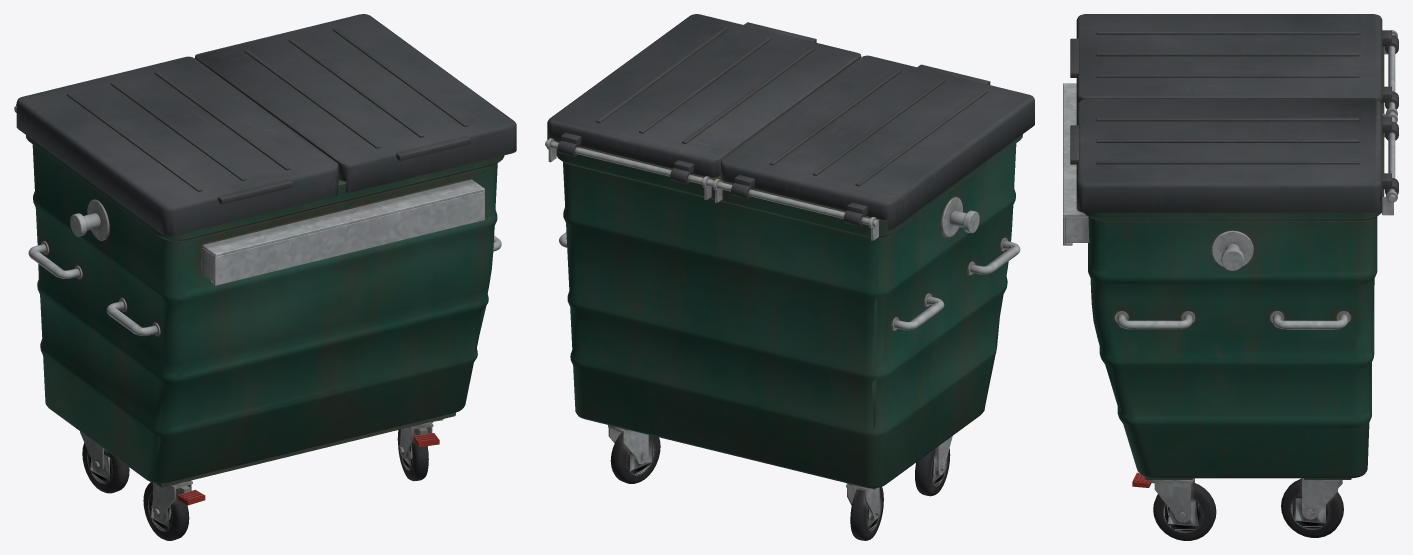
The model's file is g3d_dumpster.glb.
3 renders of one model, left to right at view 1: azimuth 30°, elevation 25°; view 2: azimuth 150°, elevation 25°; view 3: azimuth 270°, elevation 25°, orthographic. The views are drawn at different scales.
Parts seen in each view (by area): view 1: dumpster_body, dumpster_body_lo; view 2: dumpster_body, dumpster_body_lo; view 3: dumpster_body, dumpster_body_lo.
Boxes of the visible parts, left/top/right/bottom form: dumpster_body: left=14, top=14, right=516, bottom=540; dumpster_body_lo: left=15, top=110, right=516, bottom=531; dumpster_body: left=545, top=14, right=1034, bottom=540; dumpster_body_lo: left=545, top=137, right=1012, bottom=530; dumpster_body: left=1063, top=14, right=1398, bottom=540; dumpster_body_lo: left=1063, top=32, right=1397, bottom=531.
Bounding box in the file's own units: 1.38 × 1.33 × 1.06.
Materials: 1 (1 with a texture image).
